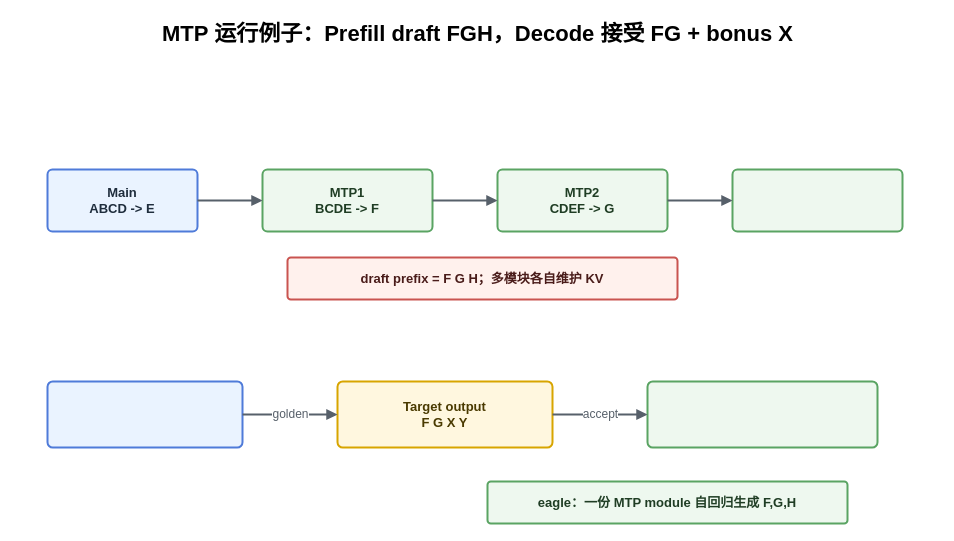
Some shapes in this 954 by 541 pixel diagram are drawn without their labels. Each missing label, with the centre of its shape:
Commit F,G + bonus X: pixel 762 414
MTP3 DEFG -> H: pixel 817 200
Target/Main input: E + FGH: pixel 144 414
